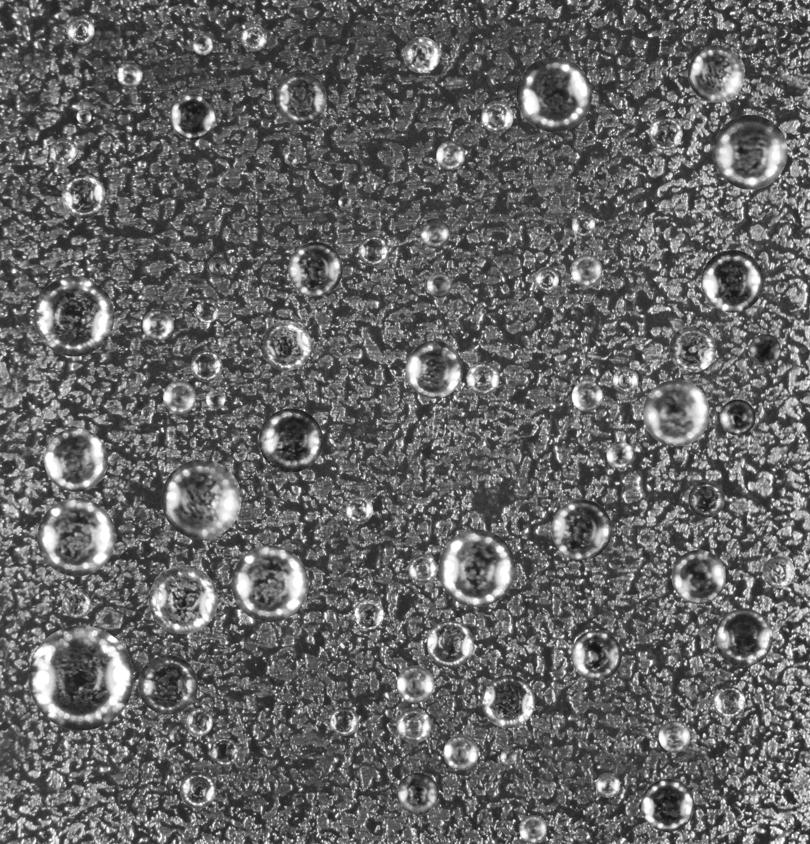Bubble: (28, 625, 133, 730), (33, 276, 114, 356), (161, 459, 241, 539), (37, 498, 115, 576), (231, 545, 308, 622), (438, 529, 515, 606), (516, 57, 591, 132), (713, 114, 787, 189), (149, 565, 217, 634), (643, 379, 709, 446), (259, 408, 322, 472), (44, 428, 107, 491), (701, 250, 763, 312), (551, 499, 612, 560), (138, 655, 197, 714), (405, 340, 463, 398), (715, 608, 772, 666), (688, 45, 745, 102), (288, 242, 342, 296), (671, 550, 725, 604), (482, 675, 535, 728), (641, 779, 694, 832), (274, 72, 326, 124), (261, 320, 311, 370), (571, 630, 621, 680), (669, 325, 716, 372), (427, 620, 473, 667), (170, 94, 216, 139), (61, 174, 105, 218), (396, 772, 438, 814), (396, 665, 434, 702), (403, 36, 440, 73), (179, 772, 216, 808), (688, 481, 724, 517), (719, 399, 755, 435), (443, 735, 478, 770), (396, 708, 431, 743), (163, 380, 196, 413), (649, 116, 682, 149), (466, 362, 499, 395), (481, 101, 513, 133), (713, 686, 745, 718), (763, 556, 795, 588), (570, 254, 602, 286), (658, 721, 690, 752), (749, 334, 780, 365), (191, 350, 222, 381), (142, 309, 173, 340), (571, 380, 602, 411), (358, 235, 388, 265), (420, 218, 450, 248), (354, 600, 384, 629), (62, 588, 91, 618), (408, 554, 437, 583), (329, 707, 358, 735), (66, 15, 94, 44), (49, 138, 77, 166), (345, 495, 373, 523), (436, 141, 464, 169), (519, 815, 547, 843), (210, 738, 238, 766), (185, 708, 212, 735), (240, 24, 267, 51), (606, 441, 633, 468), (612, 367, 638, 393), (116, 62, 142, 87), (534, 266, 559, 291), (427, 272, 451, 297), (595, 773, 620, 797), (571, 212, 595, 236), (195, 299, 219, 322), (192, 35, 212, 55), (206, 389, 225, 408), (207, 256, 226, 275), (500, 748, 516, 765), (76, 109, 91, 123), (338, 195, 352, 209), (284, 151, 297, 164), (141, 406, 153, 419), (555, 242, 564, 252)
